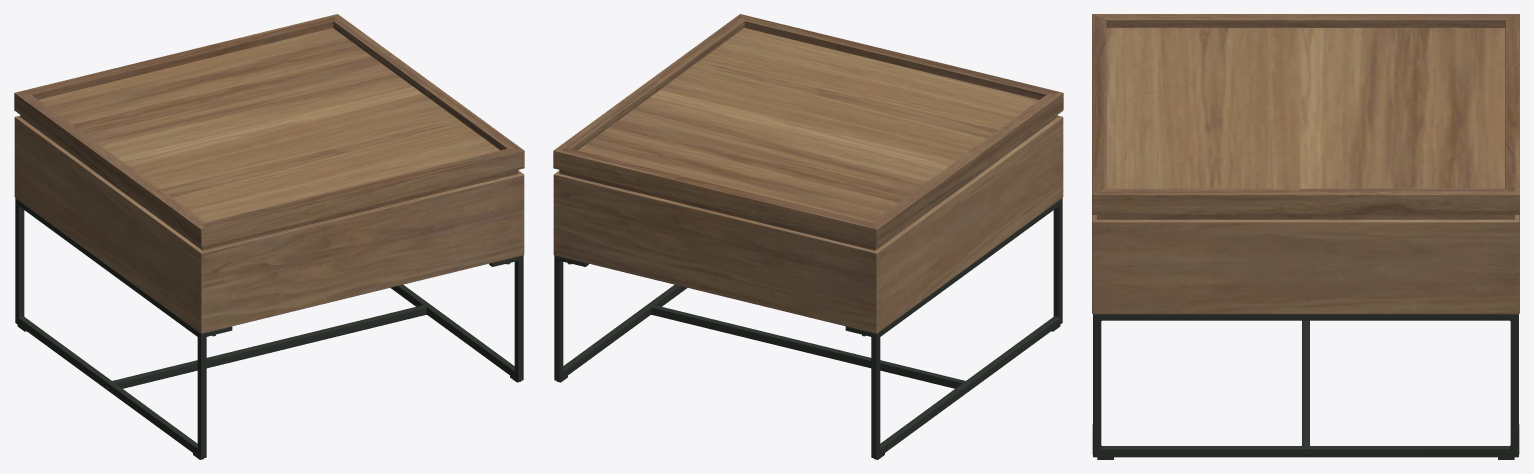
Rendered from abo-B072ZP9XL1.glb.
The picture shows the model from 3 angles, left to right: view 1: azimuth 30°, elevation 25°; view 2: azimuth 150°, elevation 25°; view 3: azimuth 270°, elevation 25°; orthographic projection. The views are drawn at different scales.
Bounding box in the file's own units: 0.679 × 0.464 × 0.676.
1 material, 1 textured.
